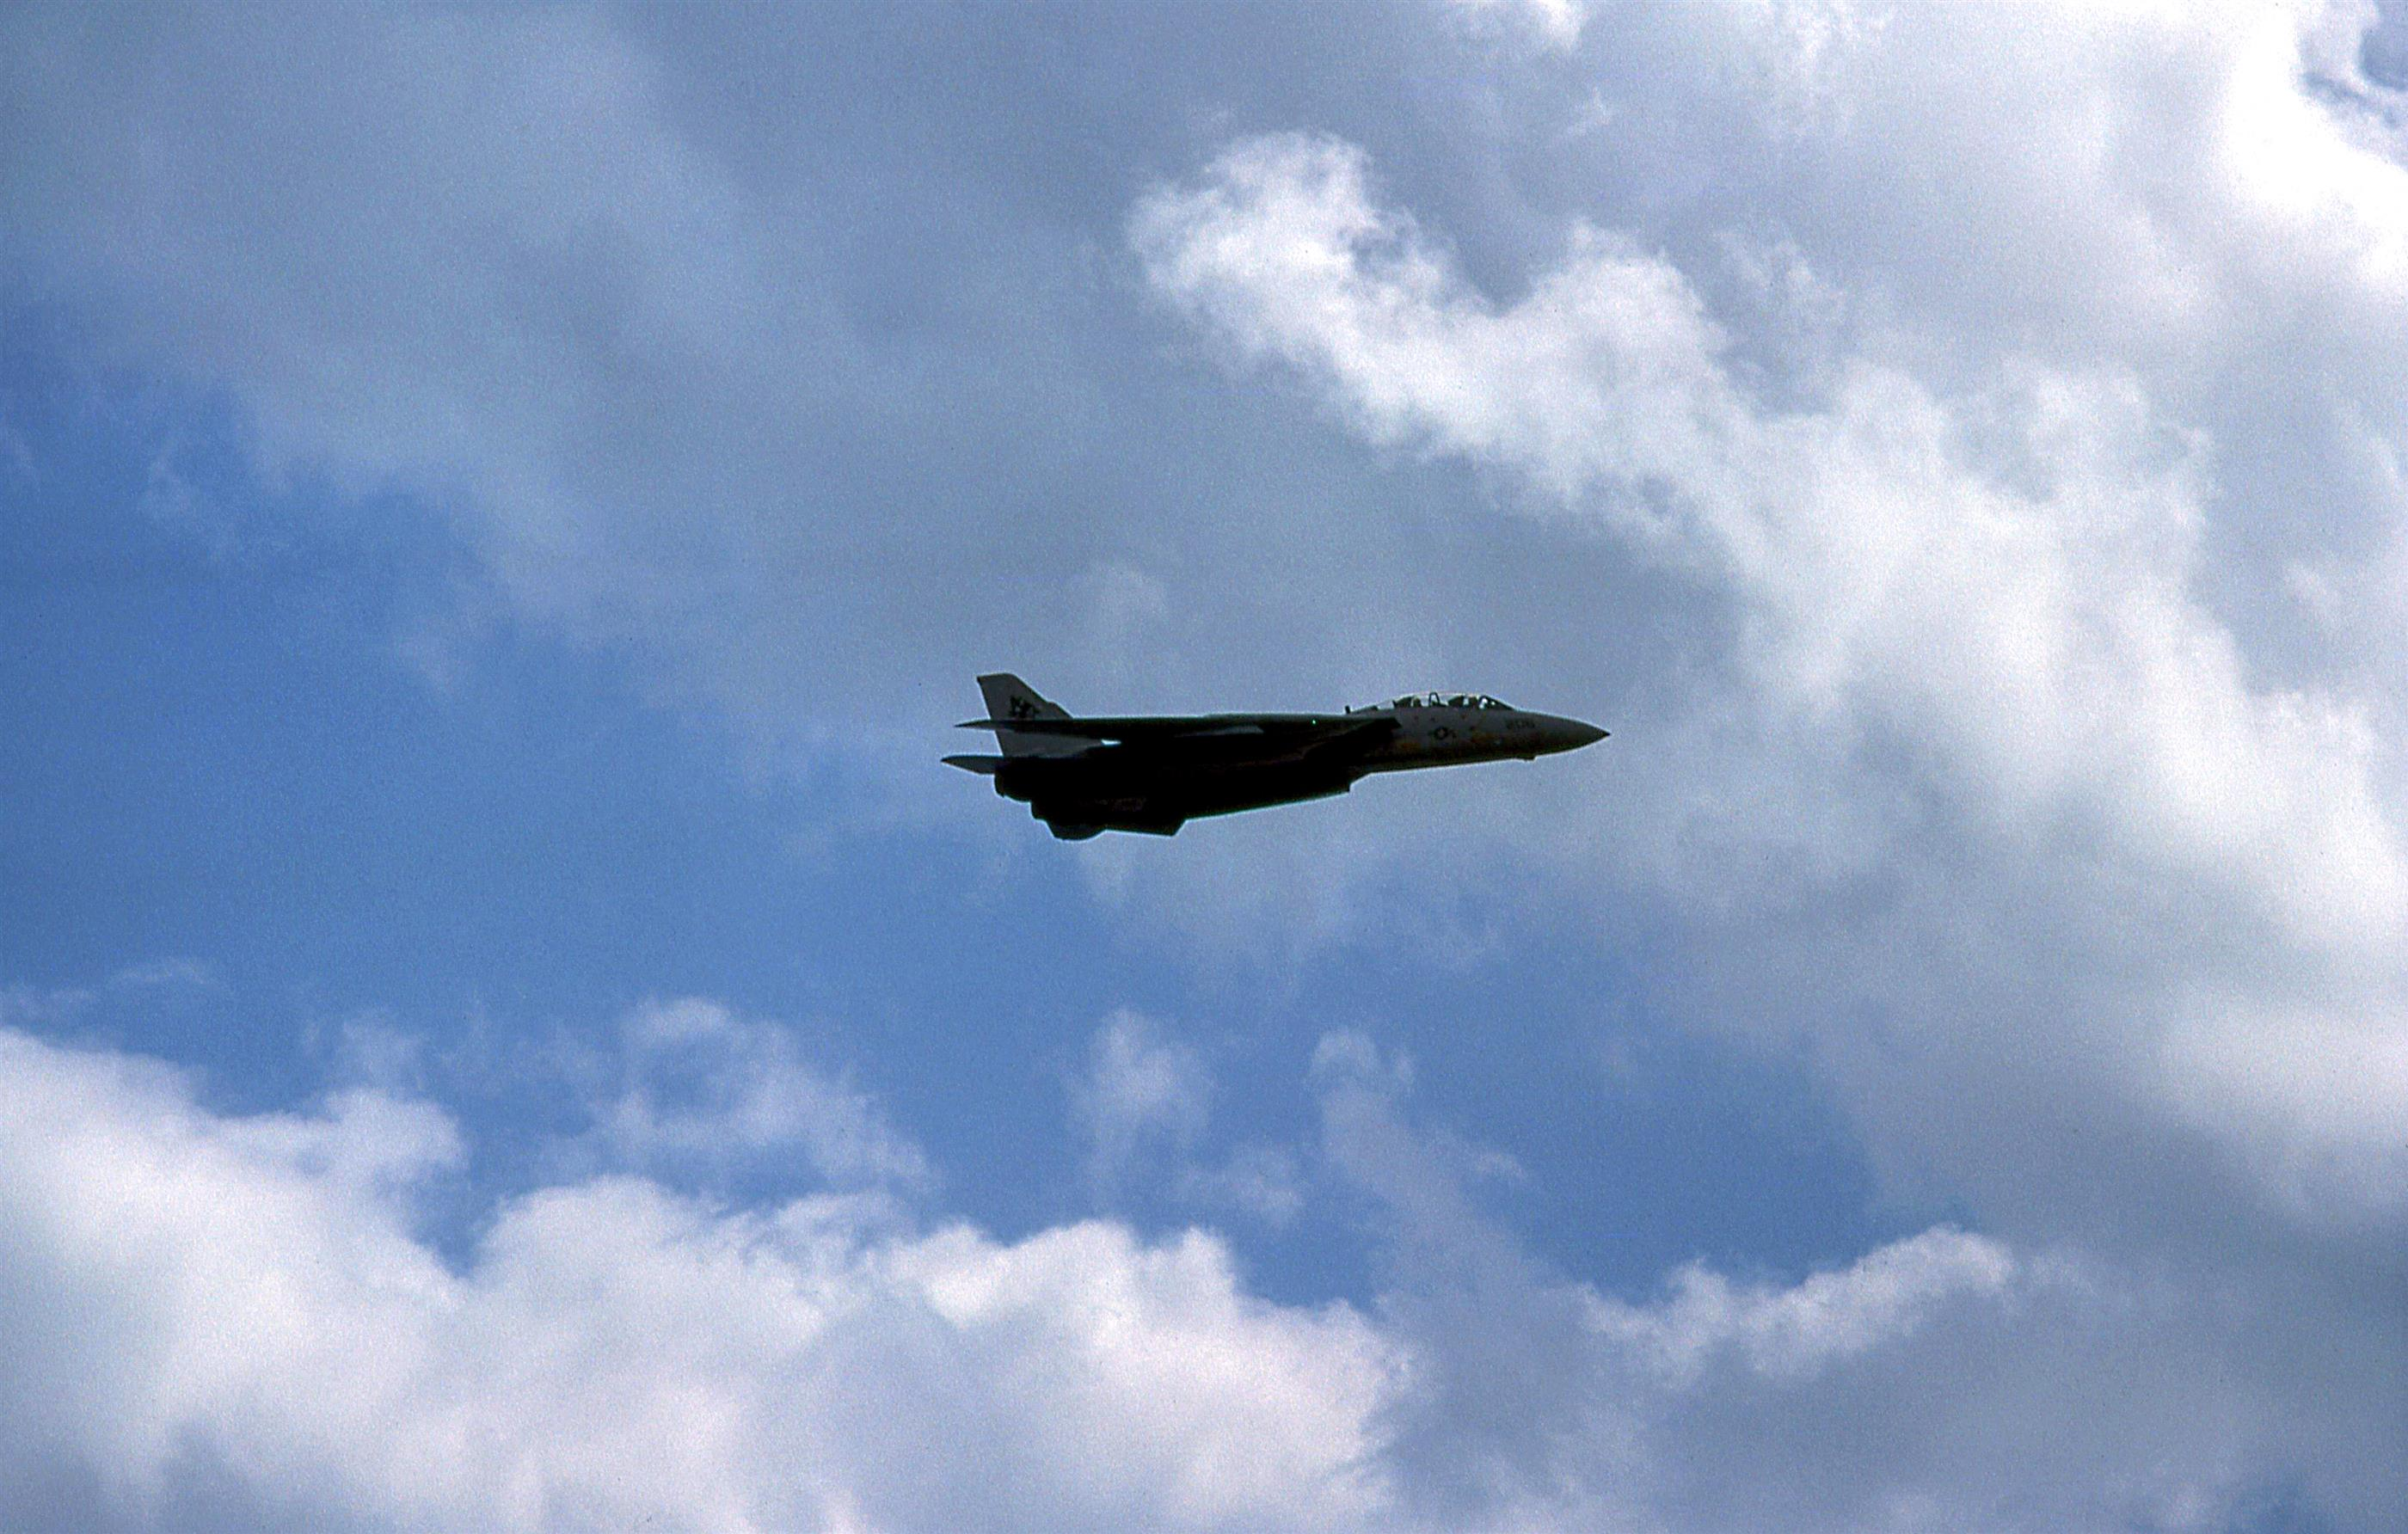F14: (939, 672, 1611, 841)
